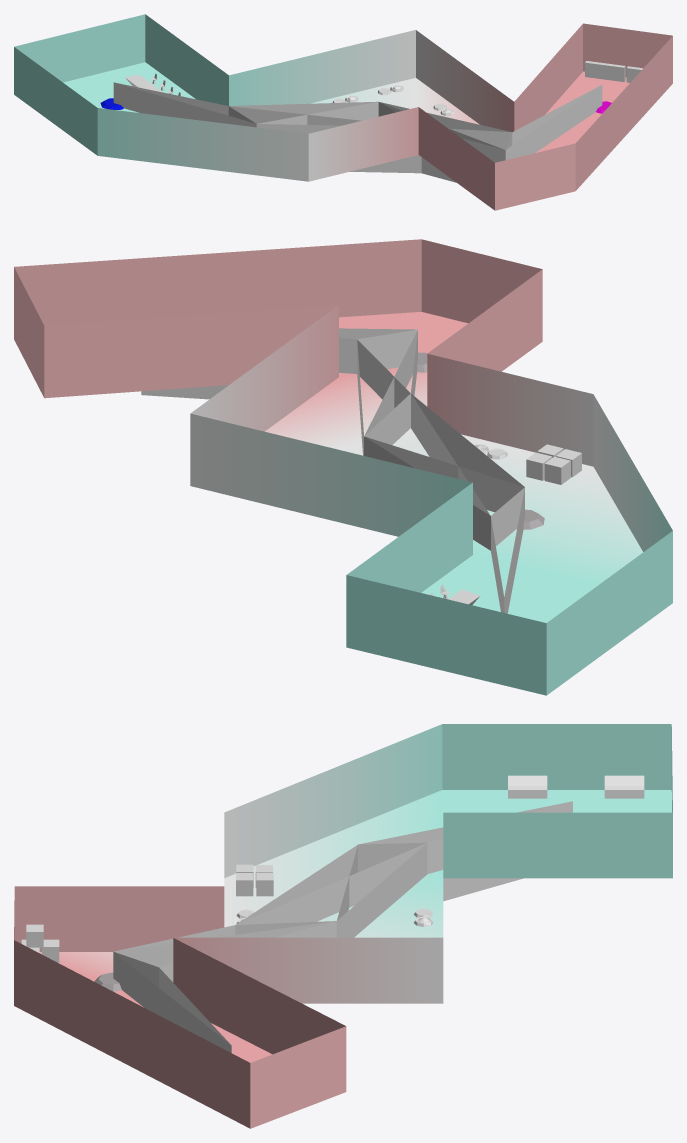
Rendered from Cassiopeia.fbx.
The picture shows the model from 3 angles, top to bottom: view 1: azimuth 30°, elevation 25°; view 2: azimuth 150°, elevation 25°; view 3: azimuth 270°, elevation 25°; orthographic projection. The views are drawn at different scales.
Visible parts, largest first — view 1: GeometryWalls, Pathfinding, GeometryFloor, Decor Lockers; view 2: GeometryWalls, GeometryFloor, Pathfinding; view 3: GeometryWalls, Pathfinding, GeometryFloor, Decor Console, Decor Console.001.
Boxes of the visible parts, bbox=[...] form: GeometryWalls: bbox=[14, 14, 672, 210]; Pathfinding: bbox=[113, 82, 602, 182]; GeometryFloor: bbox=[63, 62, 629, 152]; Decor Lockers: bbox=[585, 61, 625, 81]; GeometryWalls: bbox=[14, 239, 672, 695]; GeometryFloor: bbox=[265, 312, 643, 622]; Pathfinding: bbox=[141, 328, 524, 613]; GeometryWalls: bbox=[14, 724, 672, 1128]; Pathfinding: bbox=[113, 801, 572, 1052]; GeometryFloor: bbox=[39, 790, 671, 1062]; Decor Console: bbox=[604, 775, 644, 798]; Decor Console.001: bbox=[508, 775, 547, 798].
Bounding box in the file's own units: 9200 × 1234 × 7561.
